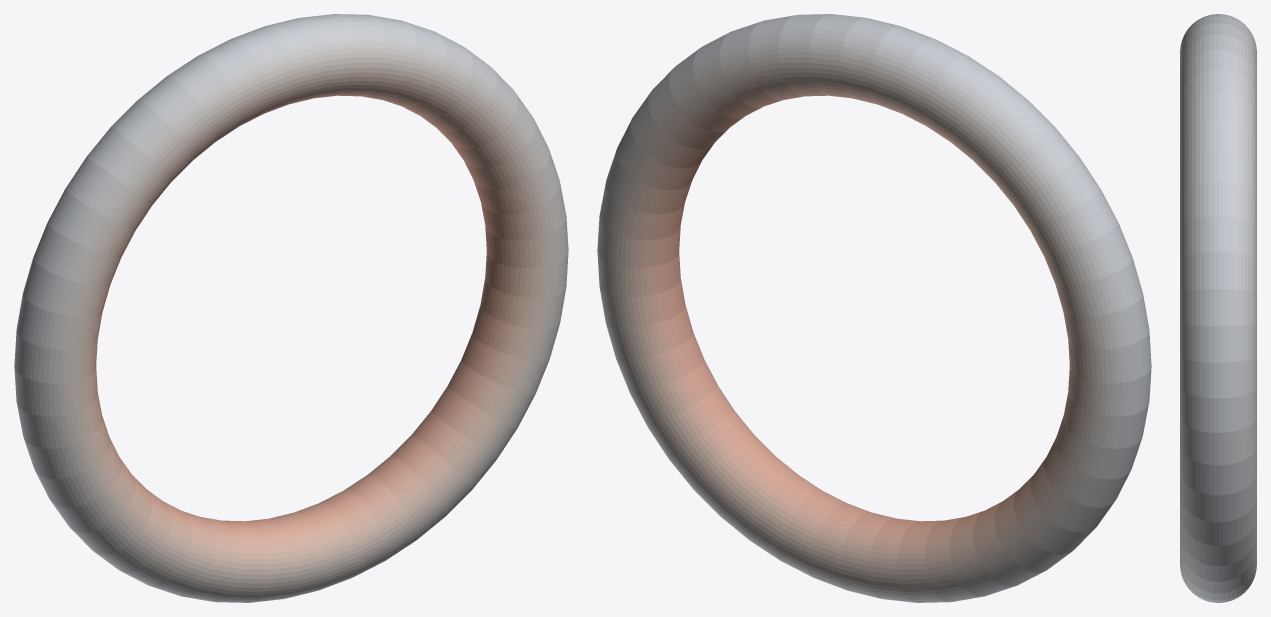
3 views of the same model, side by side, from view 1: azimuth 30°, elevation 25°; view 2: azimuth 150°, elevation 25°; view 3: azimuth 270°, elevation 25° (orthographic). The views are drawn at different scales.
Parts seen in each view (by area): view 1: world; view 2: world; view 3: world.
Boxes of the visible parts, x1,y1,x2,y2 form: world: (14, 14, 568, 602); world: (597, 14, 1151, 602); world: (1180, 14, 1256, 602).
Size of the model in its own units: 33.73 by 33.67 by 4.39.
